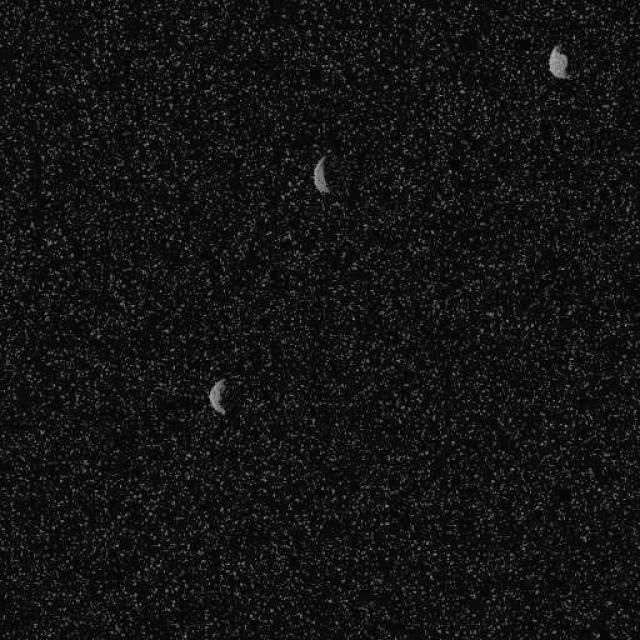D2: (546, 41, 572, 80), (208, 376, 228, 415), (311, 154, 330, 194)
